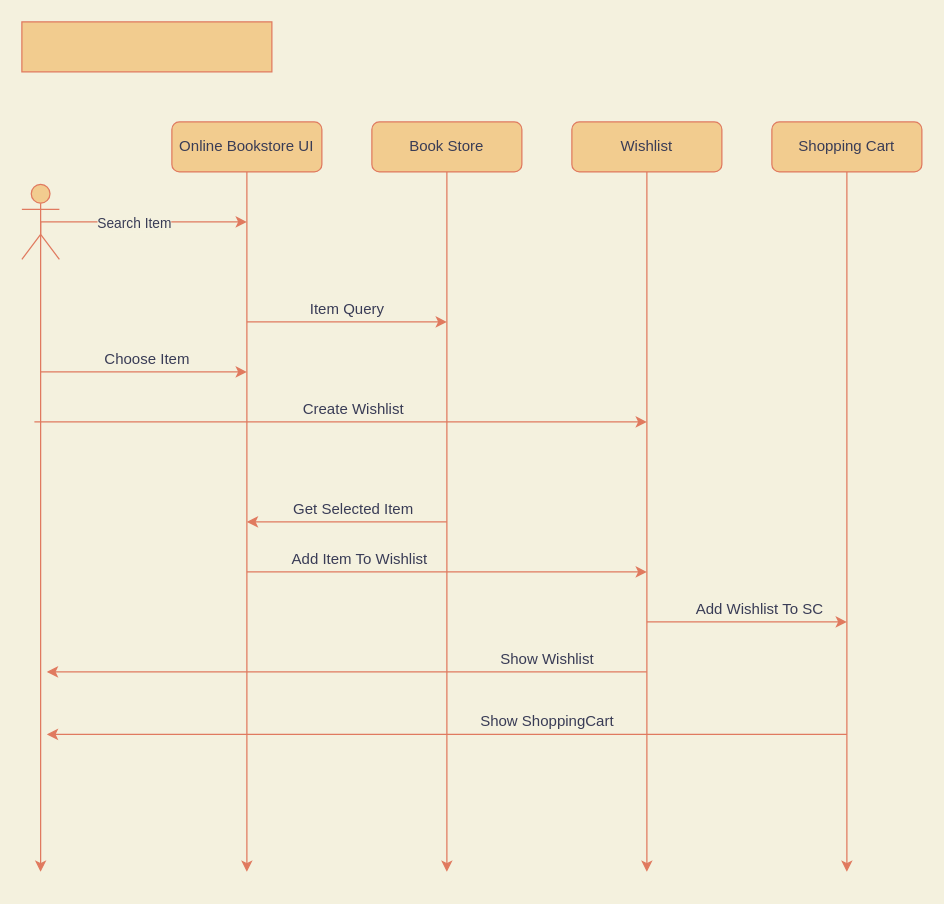
Some shapes in this 944 by 904 pixel diagram are drawn without their labels. The centre of each missing label's shape, as x and y in pixels:
Actor: point 40,221
Sequence: point 146,46
